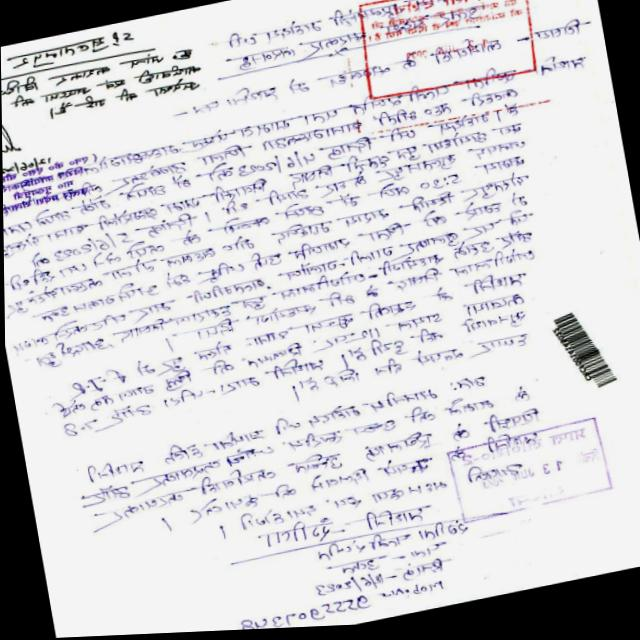antritgovtstamp: (440, 412, 621, 529)
barcode: (547, 300, 623, 402)
jantadarsan: (349, 0, 543, 103)
signnamestamp: (2, 99, 108, 222)
